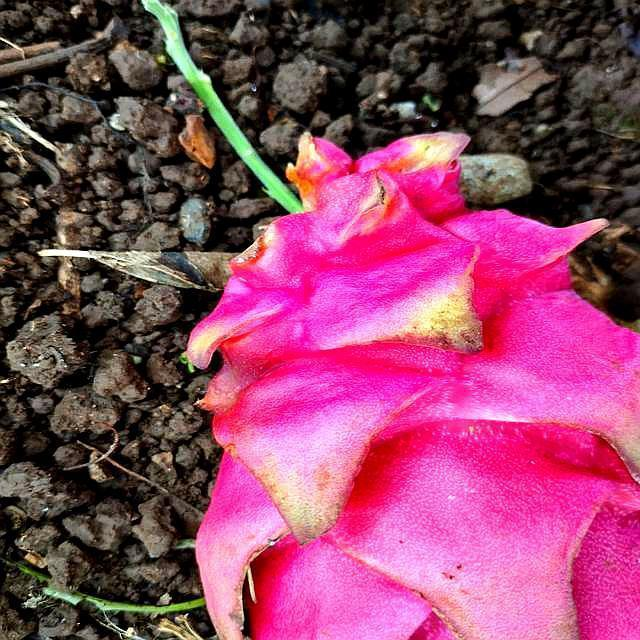Biodegradable: (201, 125, 640, 640)
